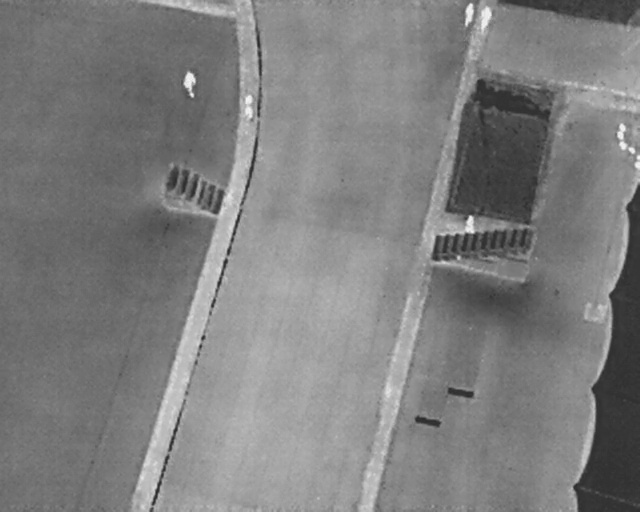Person: (179, 68, 199, 98), (477, 5, 493, 34), (243, 93, 255, 120), (464, 2, 476, 27), (466, 214, 477, 232)
